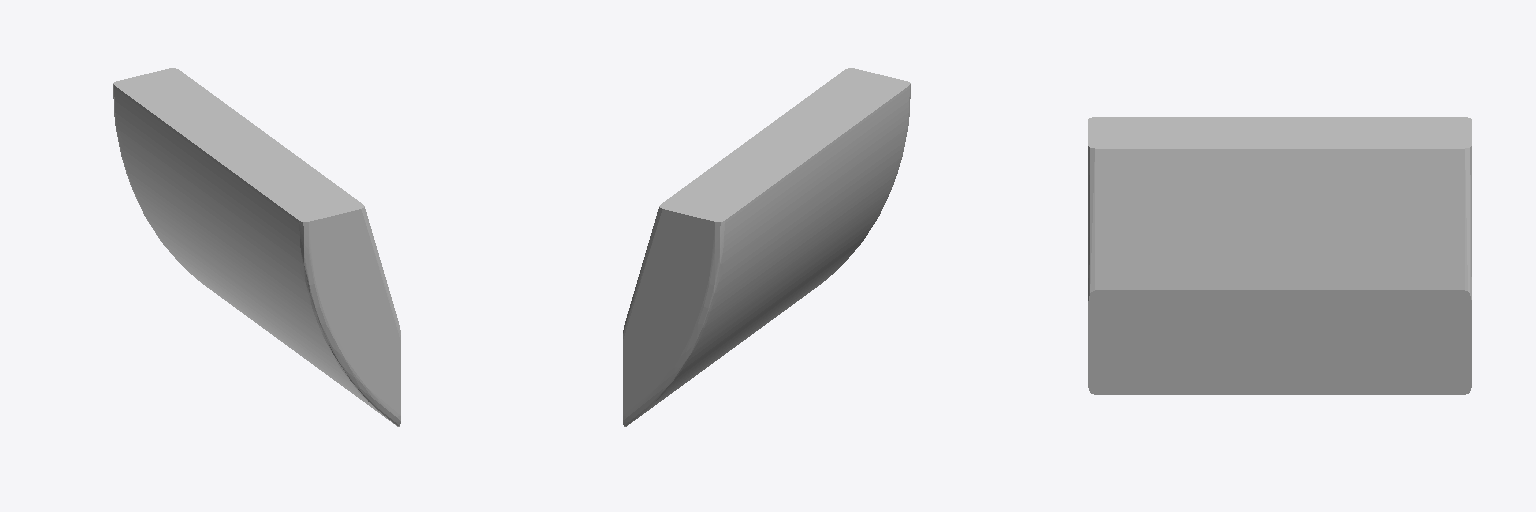
File: Cylinder_with_Hole_collision_1.obj
The picture shows the model from 3 angles: view 1: azimuth 30°, elevation 25°; view 2: azimuth 150°, elevation 25°; view 3: azimuth 270°, elevation 25°; orthographic projection.
Size of the model in its own units: 42.21 by 94.27 by 143.